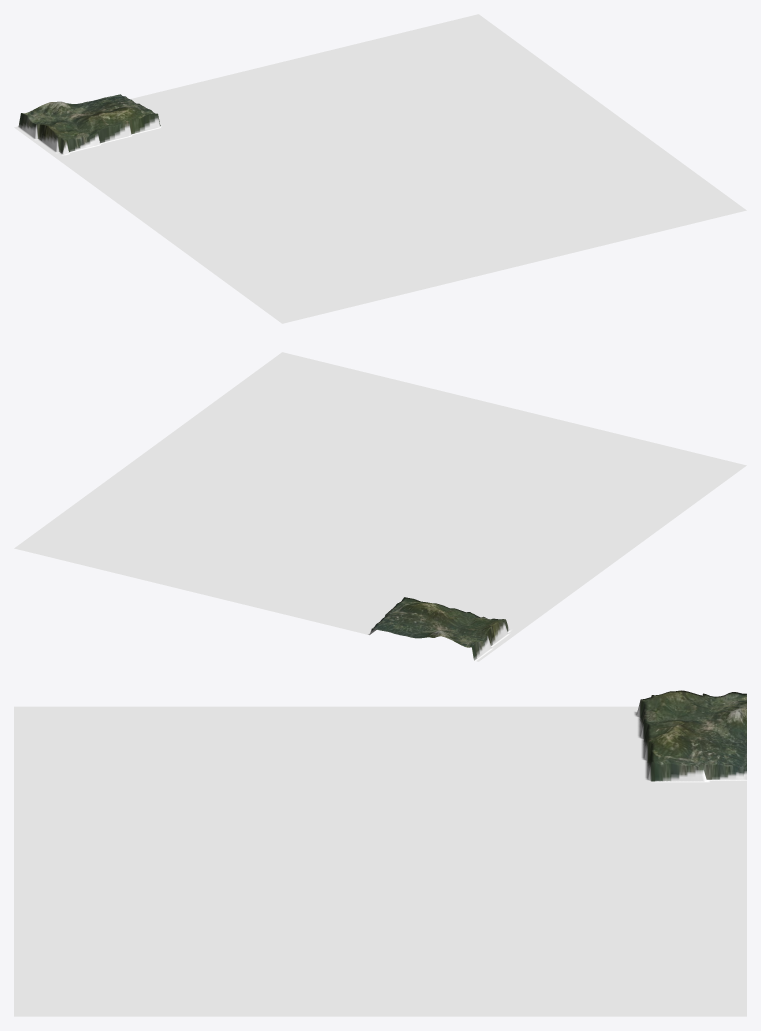
File: terrain.glb
The picture shows the model from 3 angles, top to bottom: view 1: azimuth 30°, elevation 25°; view 2: azimuth 150°, elevation 25°; view 3: azimuth 270°, elevation 25°; orthographic projection. The views are drawn at different scales.
Parts seen in each view (by area): view 1: MDT02-ETRS89-HU31-0254-4-COB2; view 2: MDT02-ETRS89-HU31-0254-4-COB2; view 3: MDT02-ETRS89-HU31-0254-4-COB2.
Boxes of the visible parts, box(x1,y1,x2,y2) form: MDT02-ETRS89-HU31-0254-4-COB2: box(14, 14, 746, 323); MDT02-ETRS89-HU31-0254-4-COB2: box(14, 352, 746, 661); MDT02-ETRS89-HU31-0254-4-COB2: box(14, 690, 746, 1016).
Bounding box in the file's own units: 63849 × 2349 × 63849.
1 material, 1 textured.
